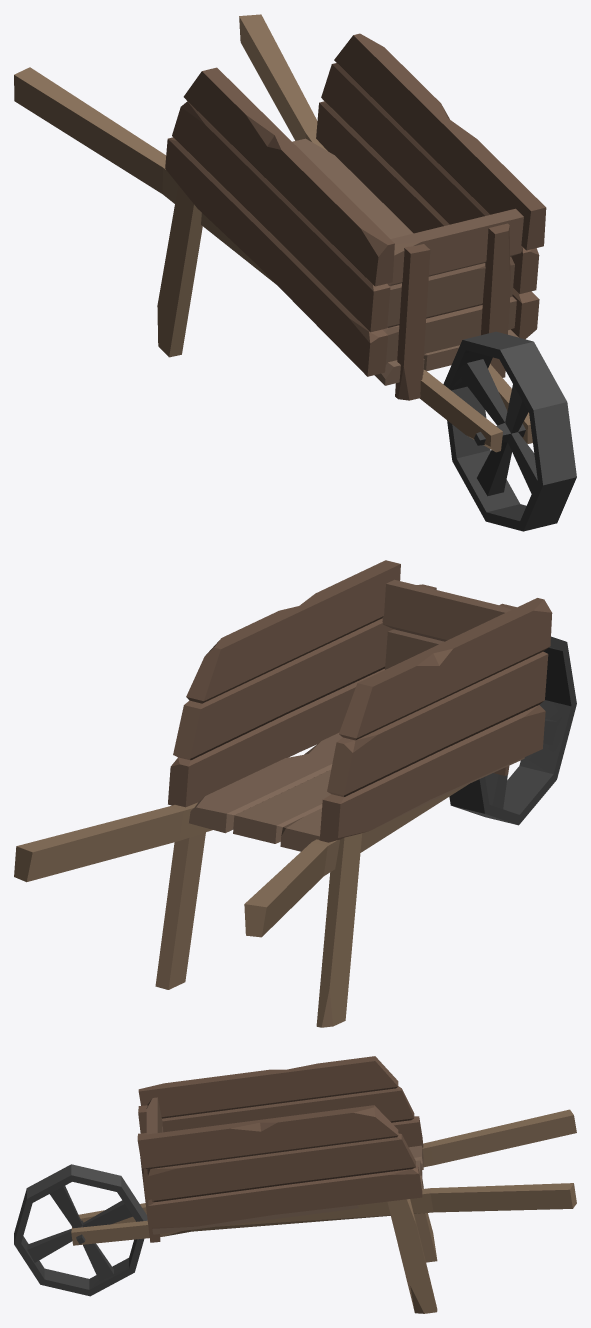
File: Wheel Barrow.fbx
The picture shows the model from 3 angles, top to bottom: view 1: azimuth 30°, elevation 25°; view 2: azimuth 150°, elevation 25°; view 3: azimuth 270°, elevation 25°; orthographic projection. The views are drawn at different scales.
Visible parts, largest first — view 1: WheelBarrow; view 2: WheelBarrow; view 3: WheelBarrow.
Part boxes in pixels (x1,y1,x2,y2): WheelBarrow: (14, 14, 576, 531); WheelBarrow: (14, 560, 576, 1027); WheelBarrow: (14, 1056, 576, 1313).
Bounding box in the file's own units: 119 × 143 × 353.
